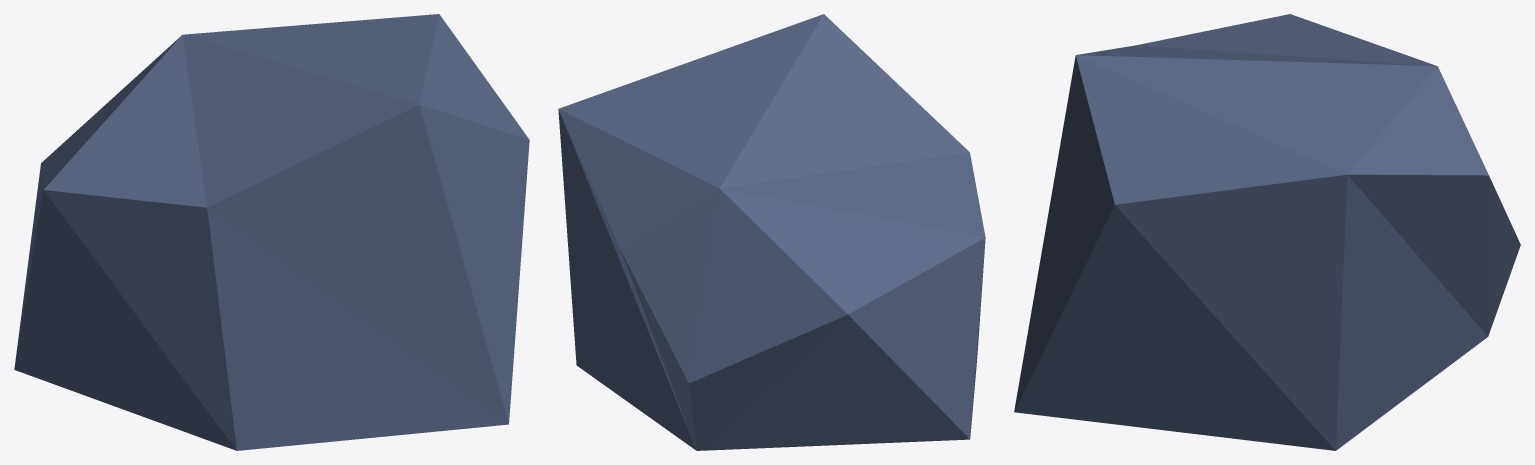
The model's file is Rock02.fbx.
3 views of the same model, side by side, from view 1: azimuth 30°, elevation 25°; view 2: azimuth 150°, elevation 25°; view 3: azimuth 270°, elevation 25° (orthographic). The views are drawn at different scales.
Visible parts, largest first — view 1: Rock_02; view 2: Rock_02; view 3: Rock_02.
Boxes of the visible parts, box(x1,y1,x2,y2) form: Rock_02: box(14, 14, 529, 450); Rock_02: box(558, 14, 985, 450); Rock_02: box(1014, 14, 1520, 450).
Bounding box in the file's own units: 97.09 × 67.57 × 95.02.
